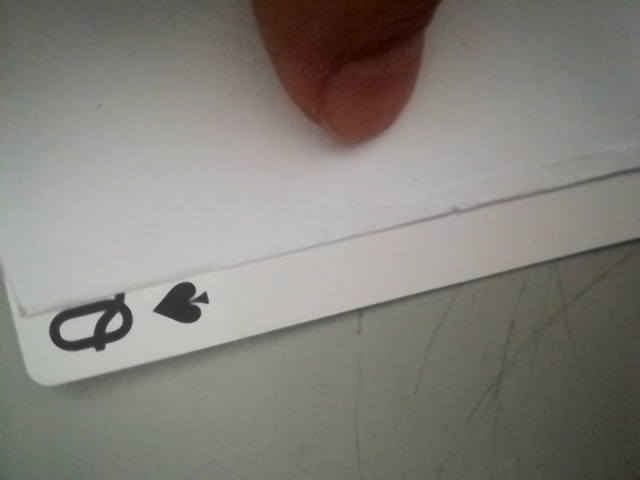ht q: (27, 270, 218, 373)
